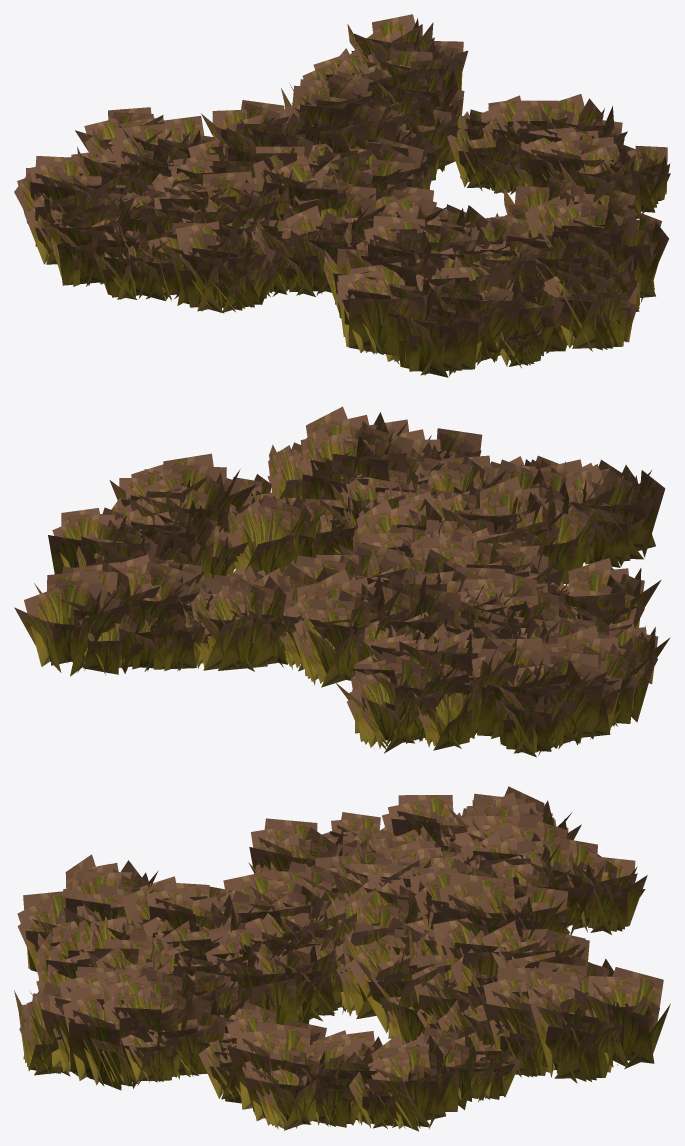
File: object_6_lev2.glb
3 renders of one model, top to bottom at view 1: azimuth 30°, elevation 25°; view 2: azimuth 150°, elevation 25°; view 3: azimuth 270°, elevation 25°, orthographic. The views are drawn at different scales.
Visible parts, largest first — view 1: object_6_lev2; view 2: object_6_lev2; view 3: object_6_lev2.
Boxes of the visible parts, box(x1,y1,x2,y2) form: object_6_lev2: box(14, 14, 670, 377); object_6_lev2: box(14, 406, 670, 757); object_6_lev2: box(14, 786, 670, 1131).
Bounding box in the file's own units: 23.02 × 4.38 × 22.25.
1 material, 1 textured.
